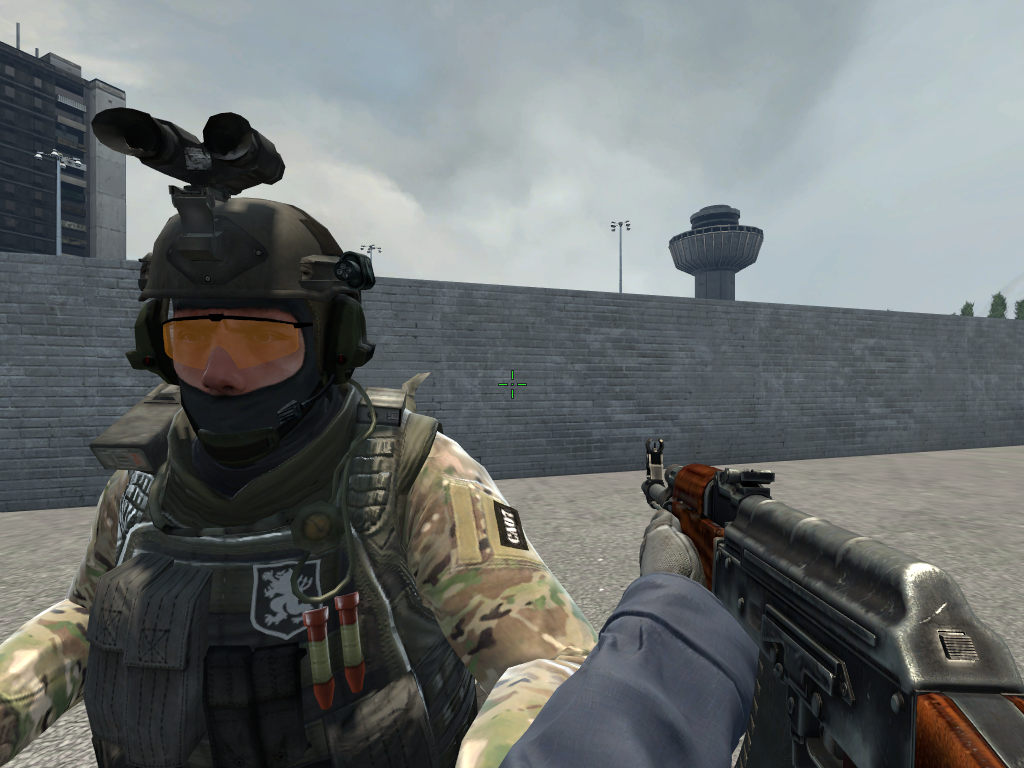ct head: (112, 177, 389, 461)
